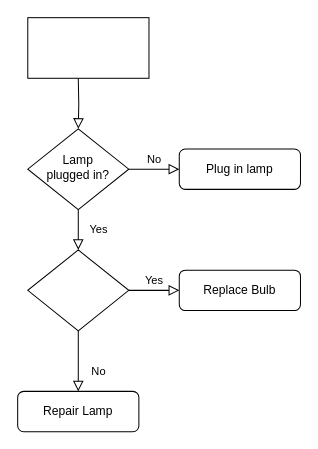
This 318x449 diagram has some shape labels left out. The centre of each missing label's shape, as x and y in pixels:
"Bulb burned out?" belongs at point (78, 290).
"uSERS" belongs at point (88, 47).
